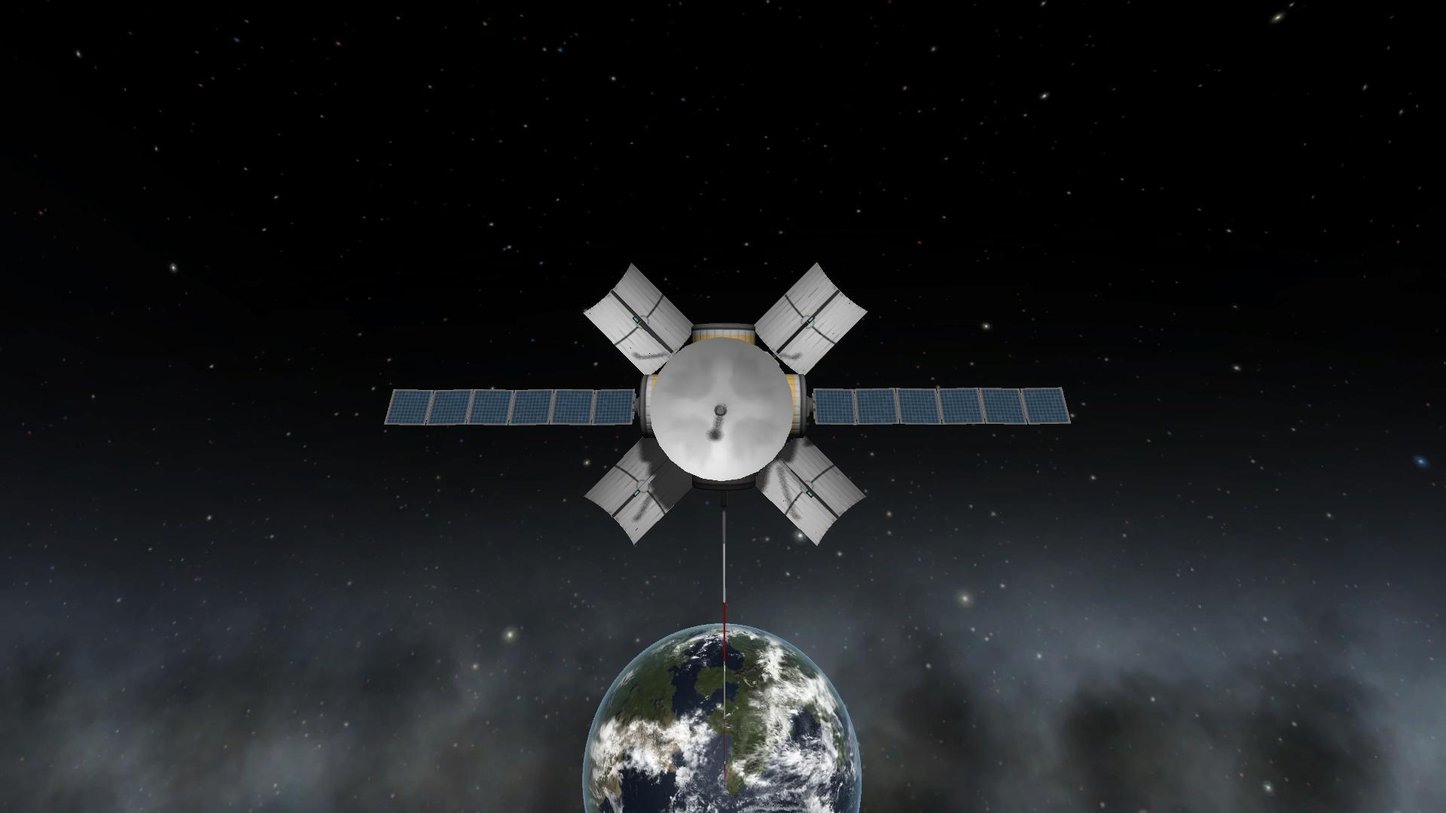antenna: (648, 335, 796, 483), (753, 259, 871, 375), (581, 261, 695, 376), (582, 436, 695, 548), (755, 437, 869, 548), (718, 491, 731, 781)
body: (638, 321, 808, 495)
solar: (810, 386, 1075, 428), (383, 387, 637, 428)
